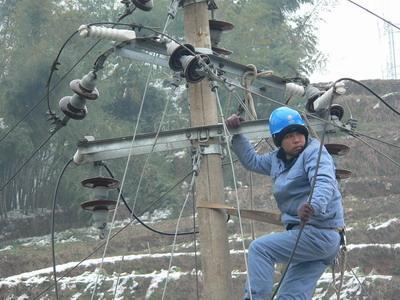helmet: (268, 104, 309, 159)
